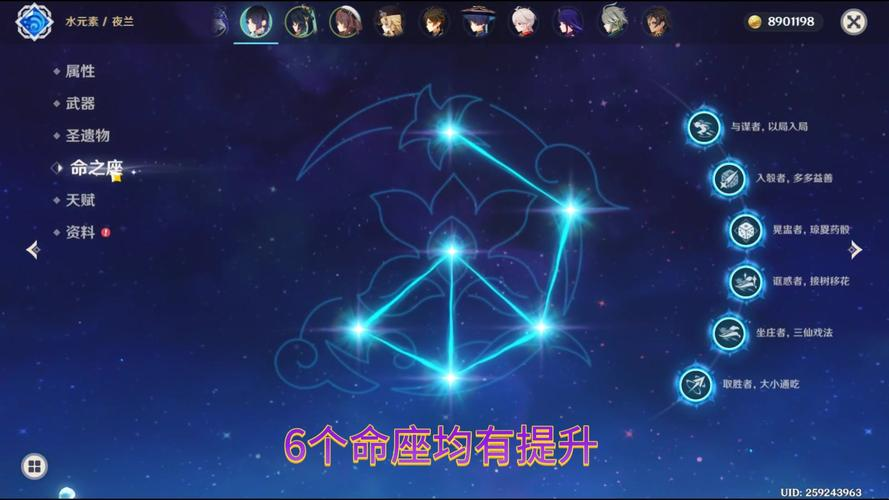夜兰: (238, 5, 270, 46)
